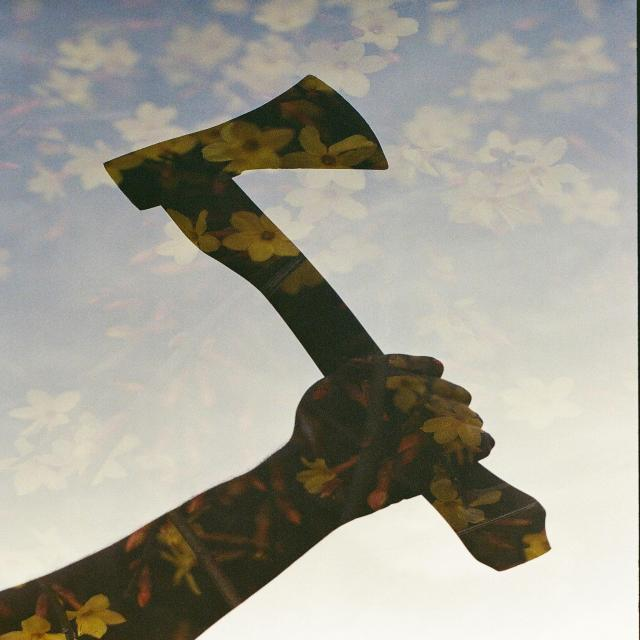Axe: (105, 76, 388, 374), (424, 461, 550, 570)
